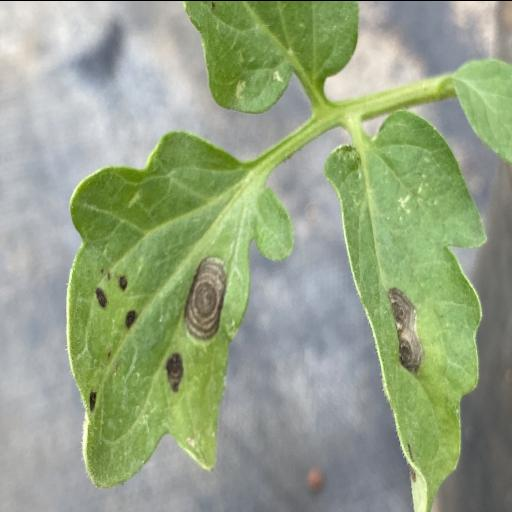Early Blight: (58, 127, 292, 485), (325, 106, 486, 512)
